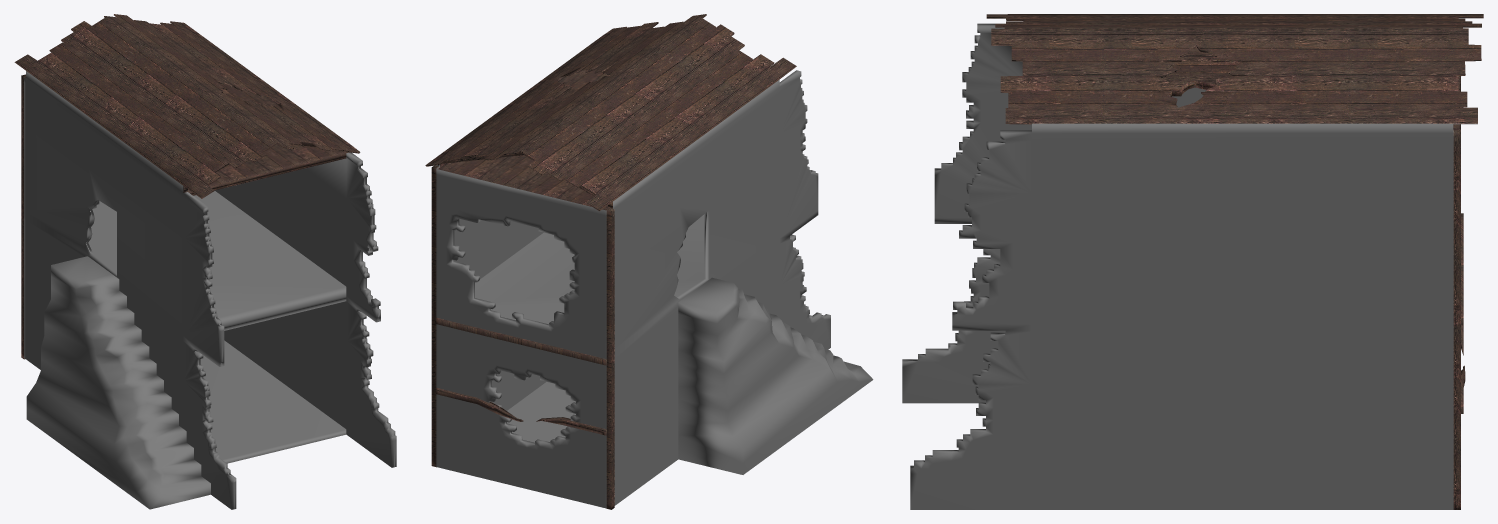
Rendered from Ruin8_lod0.fbx.
3 views of the same model, side by side, from view 1: azimuth 30°, elevation 25°; view 2: azimuth 150°, elevation 25°; view 3: azimuth 270°, elevation 25° (orthographic). The views are drawn at different scales.
Parts seen in each view (by area): view 1: Default_Layer; view 2: Default_Layer; view 3: Default_Layer.
Part boxes in pixels (x1,y1,x2,y2): Default_Layer: [14, 14, 396, 509]; Default_Layer: [425, 14, 873, 509]; Default_Layer: [902, 14, 1483, 509].
Size of the model in its own units: 821 by 1090 by 1347.
